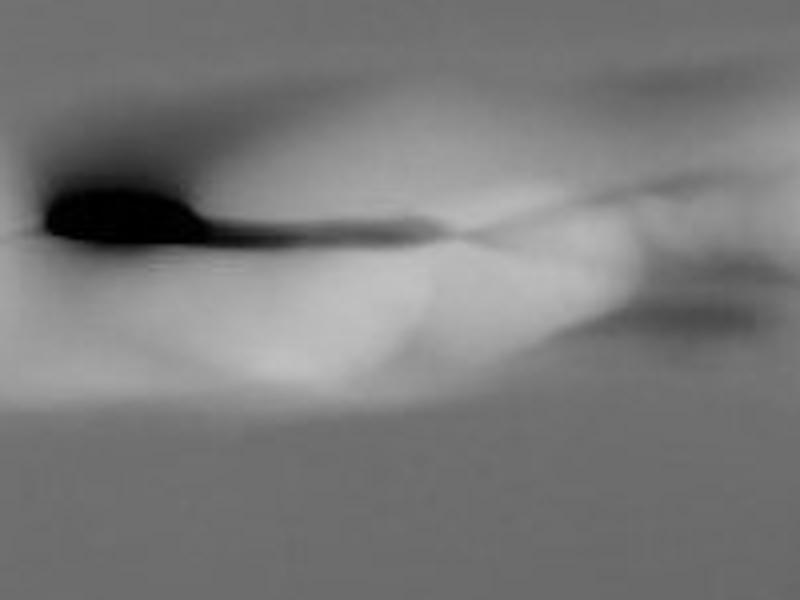defect: (44, 180, 195, 245), (196, 219, 283, 253)
